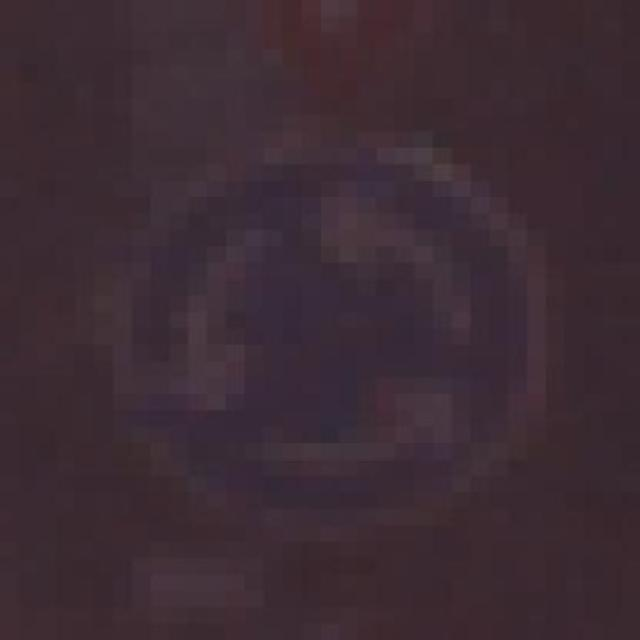Round-About: (75, 98, 583, 574)
